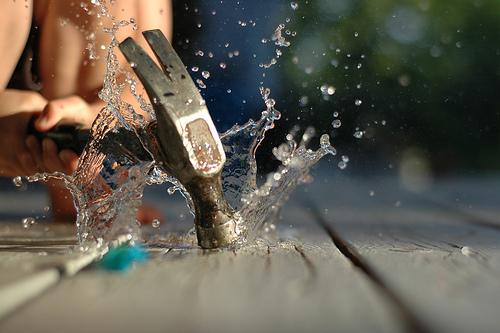hammer: (37, 27, 246, 249)
